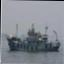fishing boat: (4, 19, 62, 52)
